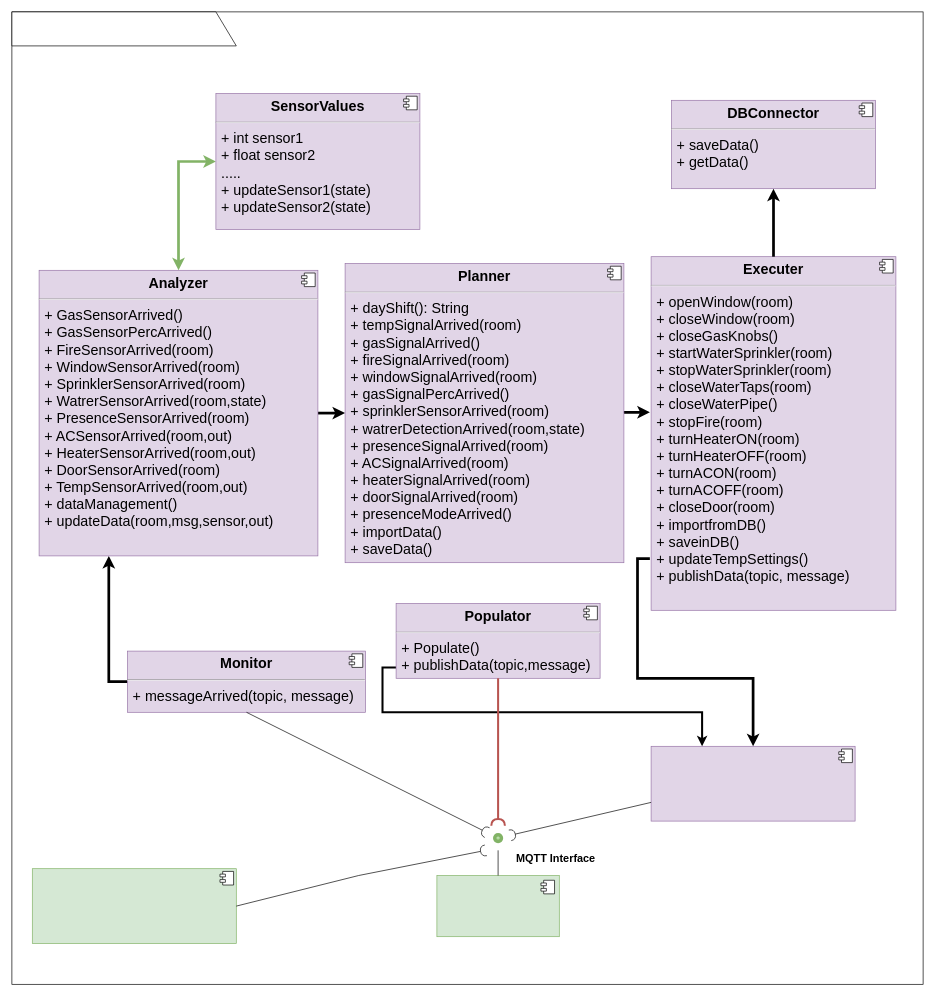
Some shapes in this 935 by 996 pixel diagram are drawn without their labels. Each missing label, with the centre of its shape:
"COMPONENT DIAGRAM" belongs at point 123,28.
"MQTTBroker" belongs at point 497,906.
"MQTTBroker + send (topic, content)" belongs at point 752,783.
"OPENHAB + readData()" belongs at point 134,906.
